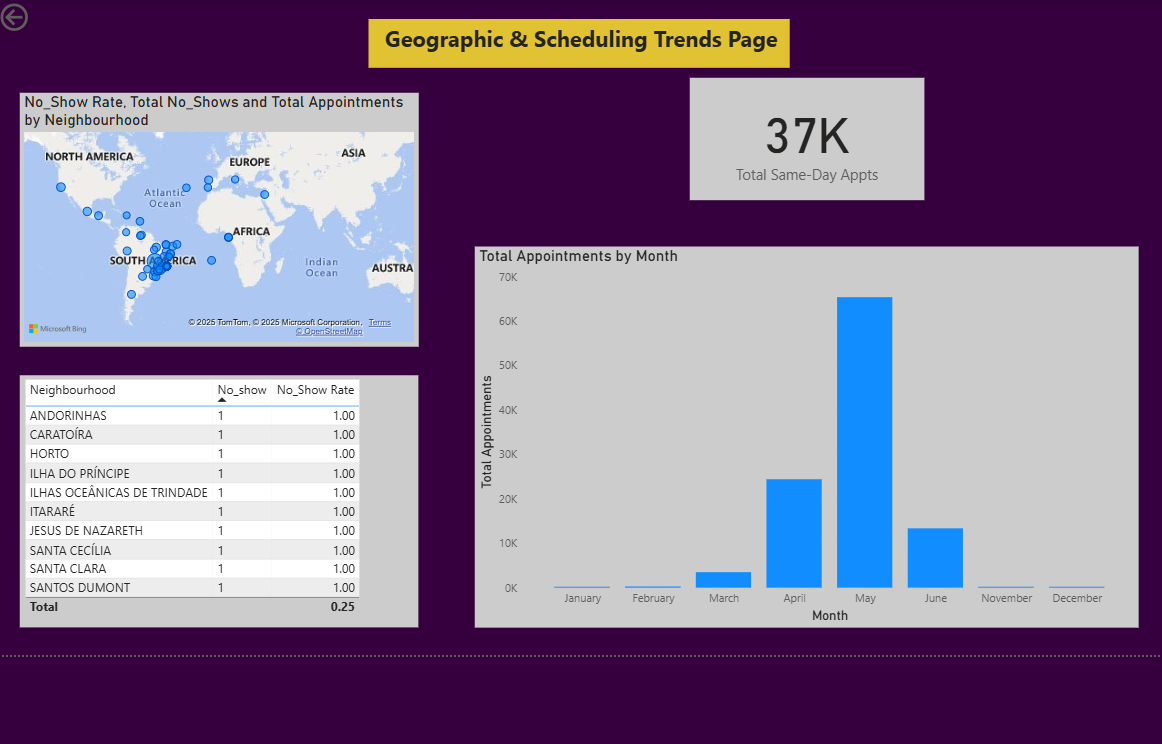

What the dashboard file says about the page in this screenshot:
{"tool":"powerbi","page":{"name":"Page 3","canvas":[1280,720],"ordinal":2},"visuals":[{"type":"textbox","box":[408.9,22,462.4,53.5],"z":0},{"type":"map","fields":{"Size":["healthcare_noshows.No_Show Rate"],"Category":["healthcare_noshows.Neighbourhood"]},"box":[26.1,102.9,437.7,278.6],"z":1000},{"type":"tableEx","fields":{"Values":["healthcare_noshows.Neighbourhood","healthcare_noshows.No_show","healthcare_noshows.No_Show Rate"]},"box":[26.1,413,437.7,277.2],"z":2000},{"type":"clusteredColumnChart","fields":{"Y":["healthcare_noshows.Total Appointments"],"Category":["healthcare_noshows.ScheduledDay.Variation.Date Hierarchy.Month"]},"box":[525.6,271.7,728.6,418.5],"z":3000},{"type":"card","fields":{"Values":["healthcare_noshows.Total Same-Day Appts"]},"box":[761.6,86.4,258,134.5],"z":4000},{"type":"actionButton","box":[0,0,100,40],"z":5000}]}

Visuals, with their boxes in screenshot pixels (x1, y1, x2, y2):
textbox: x1=366, y1=26, x2=780, y2=74
map - healthcare_noshows.No_Show Rate x healthcare_noshows.Neighbourhood: x1=23, y1=98, x2=415, y2=348
tableEx - healthcare_noshows.Neighbourhood x healthcare_noshows.No_show: x1=23, y1=376, x2=415, y2=624
clusteredColumnChart - healthcare_noshows.Total Appointments x healthcare_noshows.ScheduledDay.Variation.Date Hierarchy.Month: x1=471, y1=249, x2=1123, y2=624
card - healthcare_noshows.Total Same-Day Appts: x1=682, y1=83, x2=913, y2=204
actionButton: x1=0, y1=6, x2=90, y2=42
